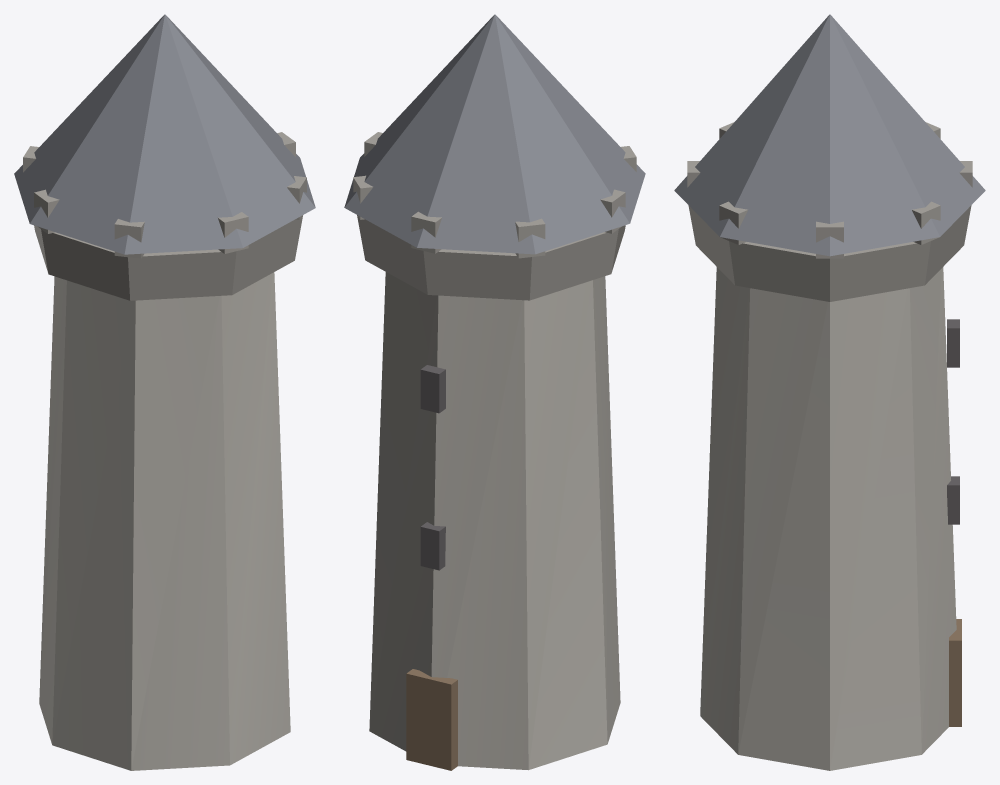
3 views of the same model, side by side, from view 1: azimuth 30°, elevation 25°; view 2: azimuth 150°, elevation 25°; view 3: azimuth 270°, elevation 25° (orthographic).
Parts seen in each view (by area): view 1: architecture.watchtower; view 2: architecture.watchtower; view 3: architecture.watchtower.
Boxes of the visible parts, x1,y1,x2,y2 form: architecture.watchtower: [14, 14, 315, 770]; architecture.watchtower: [344, 14, 645, 770]; architecture.watchtower: [674, 14, 985, 770].
Bounding box in the file's own units: 7.2 × 17.9 × 7.2.
